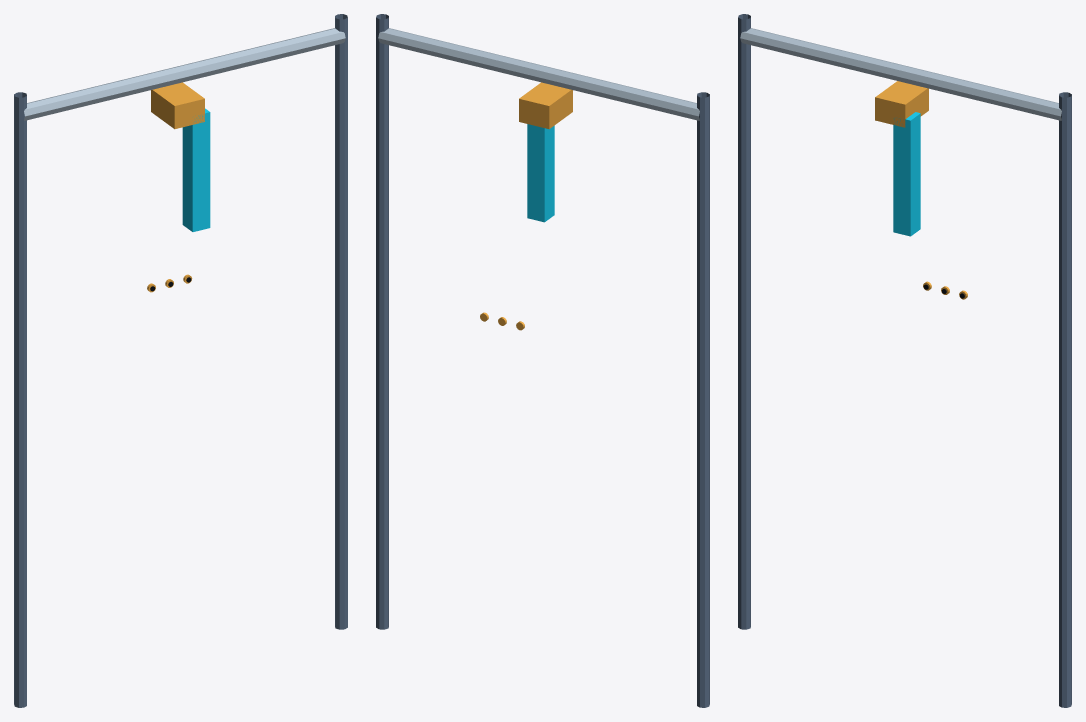
The model's file is 07_L90_InspectionServiceGantry.fbx.
3 renders of one model, left to right at view 1: azimuth 30°, elevation 25°; view 2: azimuth 150°, elevation 25°; view 3: azimuth 330°, elevation 25°, orthographic.
Visible parts, largest first — view 1: L90_InspectionServiceGantry, L90_InspectionServiceGantry_Part_0003, L90_InspectionServiceGantry_Part_0002; view 2: L90_InspectionServiceGantry, L90_InspectionServiceGantry_Part_0003, L90_InspectionServiceGantry_Part_0002; view 3: L90_InspectionServiceGantry, L90_InspectionServiceGantry_Part_0003, L90_InspectionServiceGantry_Part_0002.
Part boxes in pixels (left/top/right/bottom): L90_InspectionServiceGantry: left=14, top=14, right=347, bottom=707; L90_InspectionServiceGantry_Part_0003: left=182, top=108, right=210, bottom=231; L90_InspectionServiceGantry_Part_0002: left=151, top=82, right=204, bottom=129; L90_InspectionServiceGantry: left=376, top=14, right=709, bottom=707; L90_InspectionServiceGantry_Part_0003: left=527, top=124, right=554, bottom=222; L90_InspectionServiceGantry_Part_0002: left=519, top=82, right=572, bottom=129; L90_InspectionServiceGantry: left=738, top=14, right=1071, bottom=707; L90_InspectionServiceGantry_Part_0003: left=893, top=112, right=920, bottom=236; L90_InspectionServiceGantry_Part_0002: left=875, top=81, right=928, bottom=127.
Size of the model in its own units: 570 by 1000 by 114.
